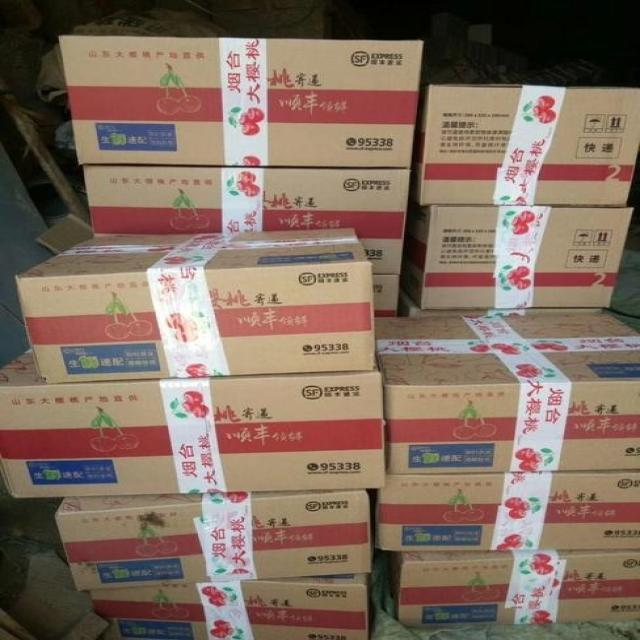box: (0, 349, 384, 496), (18, 226, 375, 381), (59, 39, 422, 168), (372, 312, 639, 475), (81, 166, 410, 274), (56, 488, 375, 591), (420, 84, 639, 206), (398, 203, 633, 315), (373, 469, 639, 549), (375, 549, 639, 626), (88, 572, 371, 639)
